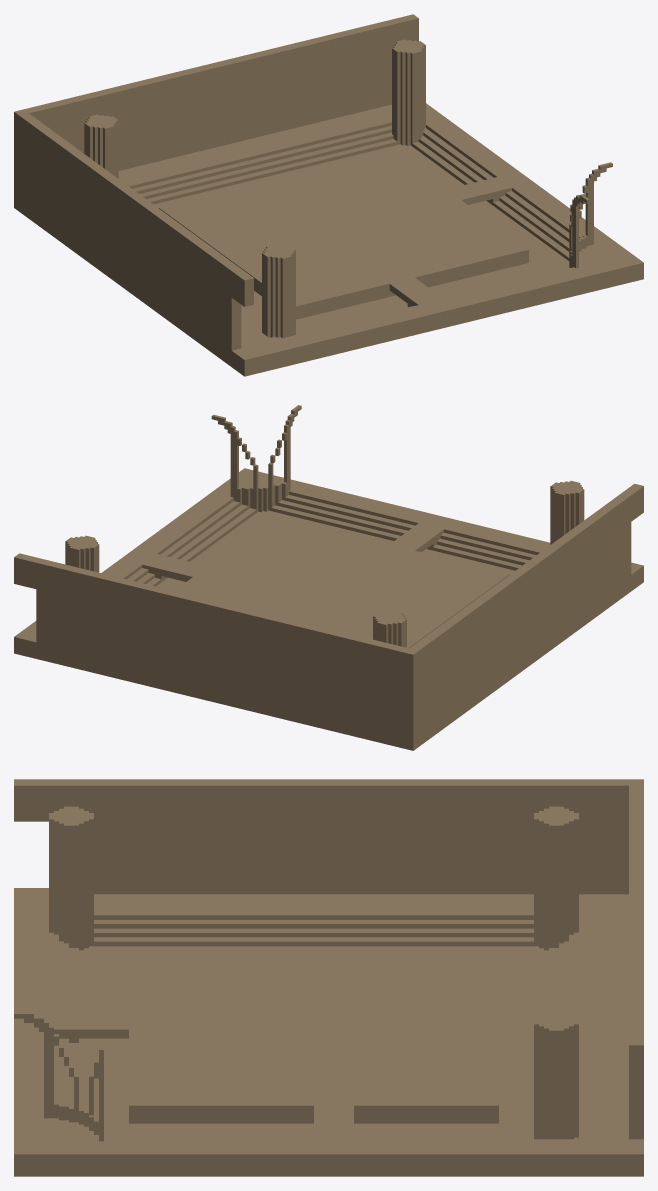
File: CorridorCorner01-4.obj
The picture shows the model from 3 angles, top to bottom: view 1: azimuth 30°, elevation 25°; view 2: azimuth 150°, elevation 25°; view 3: azimuth 270°, elevation 25°; orthographic projection. The views are drawn at different scales.
Bounding box in the file's own units: 12.6 × 2.9 × 12.6.
1 material, 1 textured.
